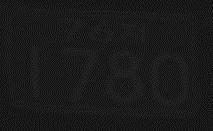0: (151, 53, 188, 106)
1: (19, 47, 54, 99)
6: (88, 18, 115, 44)
7: (62, 47, 98, 101), (60, 17, 86, 42)
8: (103, 49, 143, 102)
거: (118, 19, 146, 43)
